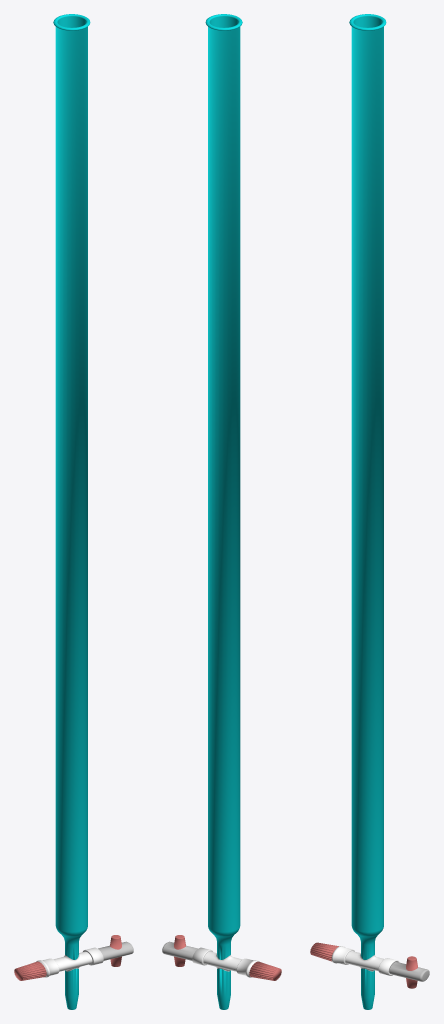
File: BuretteTF.fbx
3 views of the same model, side by side, from view 1: azimuth 30°, elevation 25°; view 2: azimuth 150°, elevation 25°; view 3: azimuth 330°, elevation 25° (orthographic).
Parts seen in each view (by area): view 1: burette; view 2: burette; view 3: burette.
Part boxes in pixels (left/top/right/bottom): burette: left=14, top=14, right=133, bottom=1009; burette: left=162, top=14, right=281, bottom=1009; burette: left=310, top=14, right=429, bottom=1009.
Bounding box in the file's own units: 69.3 × 588 × 19.97.
